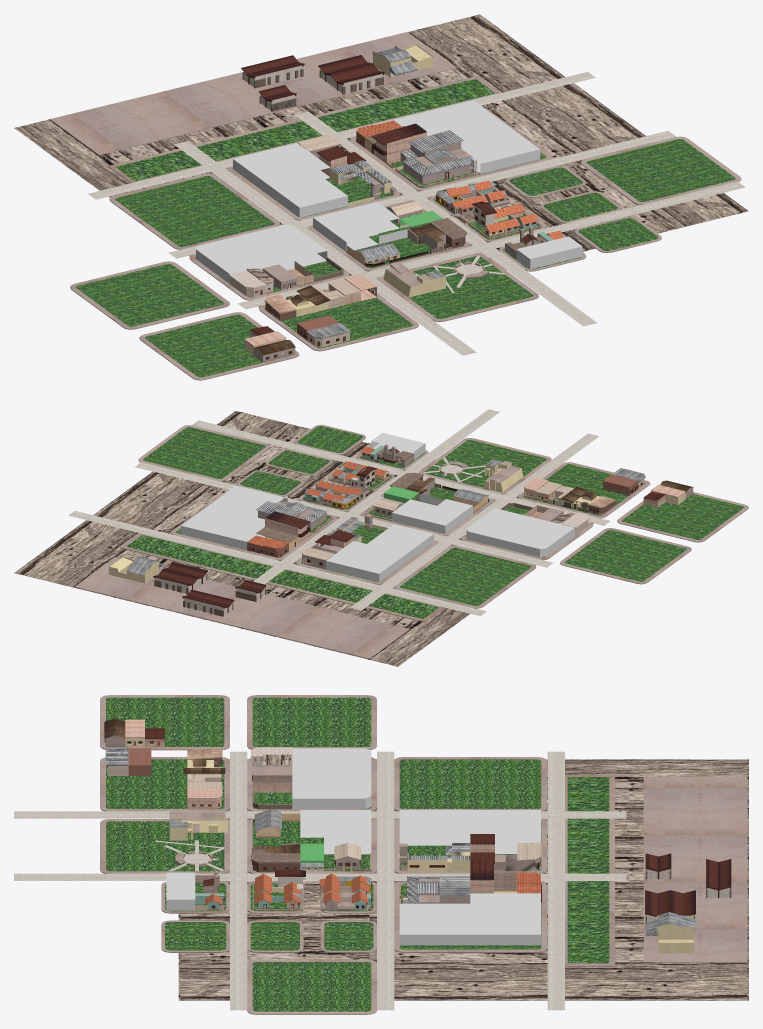
The model's file is CasitasFaltantes.fbx.
The picture shows the model from 3 angles, top to bottom: view 1: azimuth 30°, elevation 25°; view 2: azimuth 150°, elevation 25°; view 3: azimuth 270°, elevation 25°; orthographic projection. The views are drawn at different scales.
Visible parts, largest first — view 1: Tierra, Piso, Esquinas, tierra, Plane.019, Plane.027, Cuadra2, jugador plane.002, jugador plane.003, jugador plane, Plane.016, jugador plane.001 (+13 smaller); view 2: Tierra, Esquinas, Piso, tierra, Plane.027, Plane.019, Cuadra2, jugador plane.004, jugador plane.002, jugador plane.003, jugador plane, jugador plane.001 (+13 smaller); view 3: Tierra, Piso, Esquinas, tierra, Plane.027, Plane.019, Cuadra2, jugador plane, jugador plane.001, jugador plane.004, jugador plane.003, Plane.016 (+17 smaller).
Boxes of the visible parts, box(x1,y1,x2,y2) form: Tierra: box(76, 139, 735, 377); Piso: box(14, 14, 748, 307); Esquinas: box(50, 32, 741, 380); tierra: box(115, 79, 494, 181); Plane.019: box(233, 143, 347, 217); Plane.027: box(393, 100, 540, 173); Cuadra2: box(196, 224, 327, 283); jugador plane.002: box(174, 141, 476, 355); jugador plane.003: box(295, 111, 596, 326); jugador plane: box(238, 181, 745, 309); Plane.016: box(313, 202, 407, 251); jugador plane.001: box(168, 130, 676, 258); Tierra: box(143, 426, 744, 606); Esquinas: box(75, 424, 748, 659); Piso: box(14, 411, 593, 666); tierra: box(126, 535, 438, 618); Plane.027: box(181, 485, 283, 549); Plane.019: box(326, 524, 434, 581); Cuadra2: box(466, 508, 574, 557); jugador plane.004: box(68, 511, 486, 616); jugador plane.002: box(350, 433, 599, 610); jugador plane.003: box(253, 409, 499, 584); jugador plane: box(192, 420, 610, 525); jugador plane.001: box(135, 462, 553, 567); Tierra: box(106, 697, 541, 1011); Piso: box(178, 759, 748, 1000); Esquinas: box(100, 695, 747, 1014); tierra: box(567, 777, 609, 963); Plane.027: box(399, 893, 540, 945); Plane.019: box(399, 810, 540, 853); Cuadra2: box(292, 748, 371, 808); jugador plane: box(230, 751, 247, 1010); jugador plane.001: box(377, 751, 394, 1010); jugador plane.004: box(547, 751, 564, 1010); jugador plane.003: box(14, 873, 626, 880); Plane.016: box(300, 810, 371, 854).
Size of the model in its own units: 144124 by 140309 by 5359.
32 materials, 31 textured.
